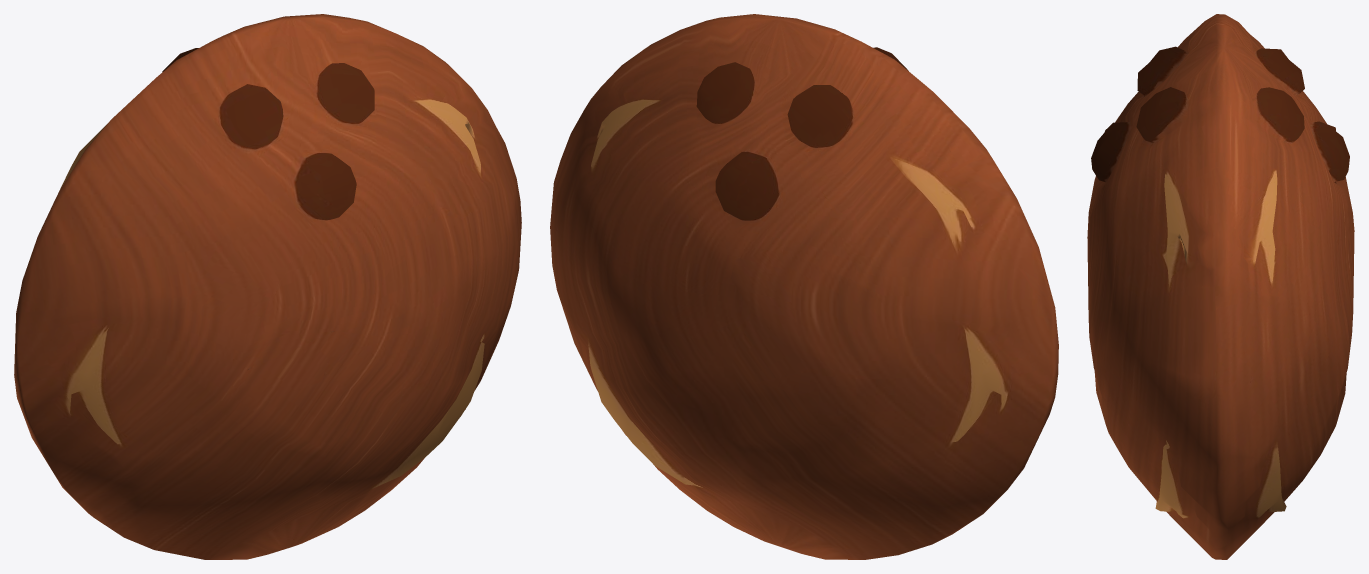
File: coco.glb
3 views of the same model, side by side, from view 1: azimuth 30°, elevation 25°; view 2: azimuth 150°, elevation 25°; view 3: azimuth 270°, elevation 25° (orthographic). The views are drawn at different scales.
Visible parts, largest first — view 1: tripo_node_39331f25-0a31-4d8c-85b3-f09fbd445cce; view 2: tripo_node_39331f25-0a31-4d8c-85b3-f09fbd445cce; view 3: tripo_node_39331f25-0a31-4d8c-85b3-f09fbd445cce.
Boxes of the visible parts, x1,y1,x2,y2 form: tripo_node_39331f25-0a31-4d8c-85b3-f09fbd445cce: (14,14,521,559); tripo_node_39331f25-0a31-4d8c-85b3-f09fbd445cce: (550,14,1058,559); tripo_node_39331f25-0a31-4d8c-85b3-f09fbd445cce: (1087,14,1354,559).
Size of the model in its own units: 0.975 by 0.9791 by 0.4741.
1 material, 1 textured.
